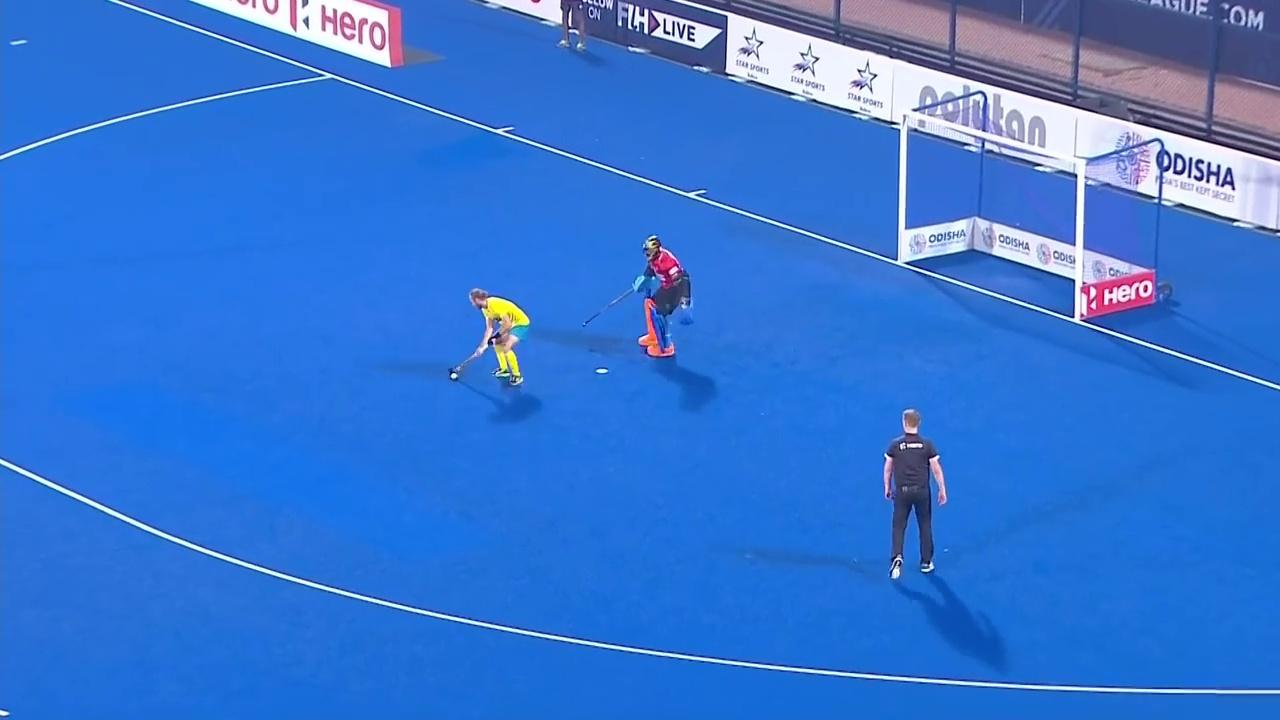ball: (447, 368, 461, 382)
